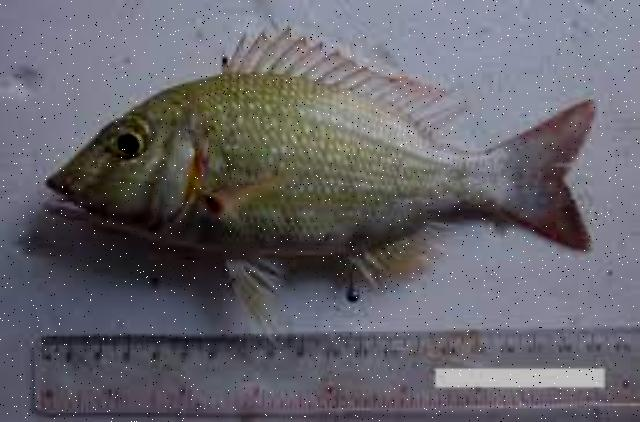Mulut: (15, 156, 106, 262)
Sirip Anal: (342, 212, 473, 296)
Sirip Dada: (196, 163, 300, 231)
Sirip Ekor: (480, 90, 602, 250)
Sirip Perut: (215, 246, 302, 354)
Sirip Punggung: (215, 18, 465, 144)
